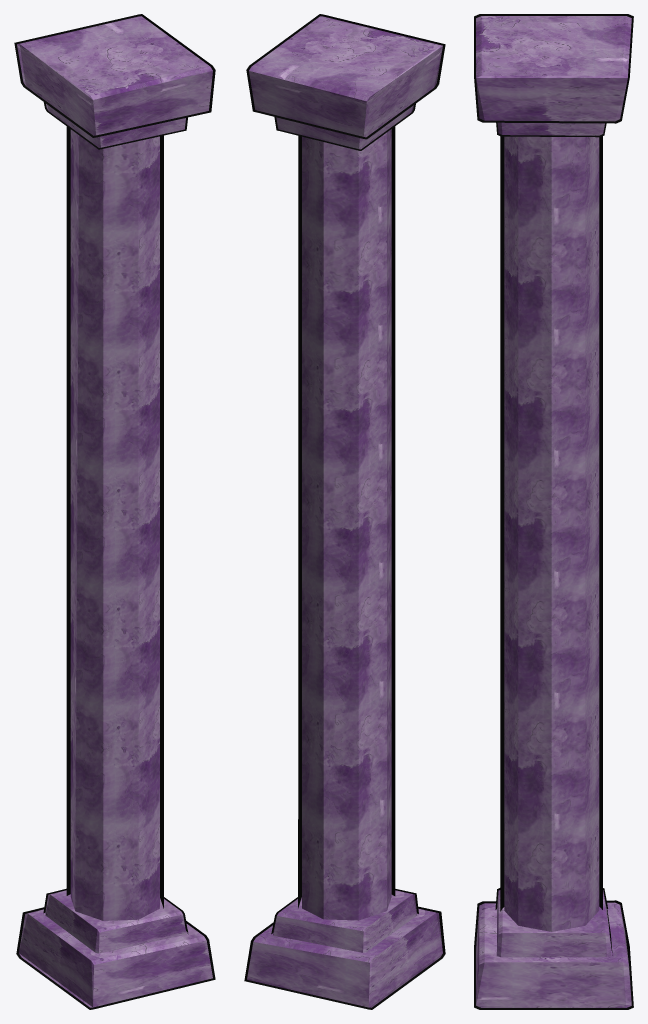
File: s0_Str_Ruins_04_3__1__01.glb
The picture shows the model from 3 angles, left to right: view 1: azimuth 30°, elevation 25°; view 2: azimuth 150°, elevation 25°; view 3: azimuth 270°, elevation 25°; orthographic projection. The views are drawn at different scales.
Visible parts, largest first — view 1: node_Str_Ruins_04_3 (1); view 2: node_Str_Ruins_04_3 (1); view 3: node_Str_Ruins_04_3 (1).
Boxes of the visible parts, left/top/right/bottom form: node_Str_Ruins_04_3 (1): left=14, top=14, right=215, bottom=1009; node_Str_Ruins_04_3 (1): left=244, top=14, right=445, bottom=1009; node_Str_Ruins_04_3 (1): left=474, top=14, right=633, bottom=1009.
Size of what is drawn, in the model's own units: 1.69 by 12 by 1.86.
2 materials, 1 textured.
